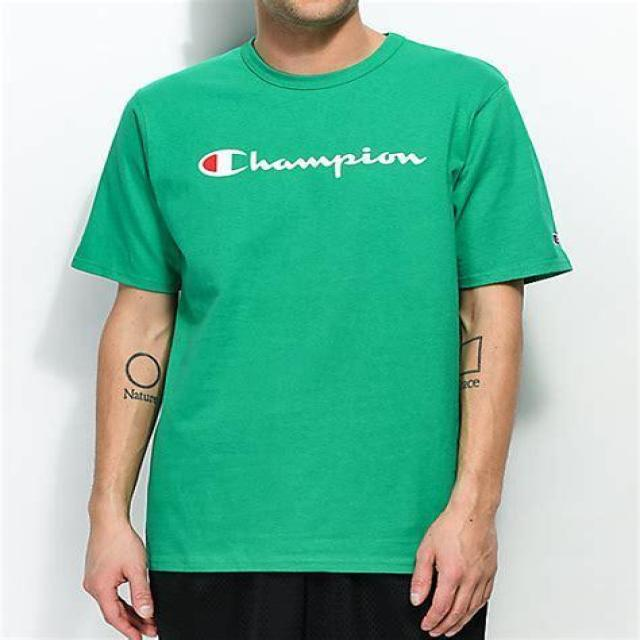Tshirt: (71, 32, 570, 577)
